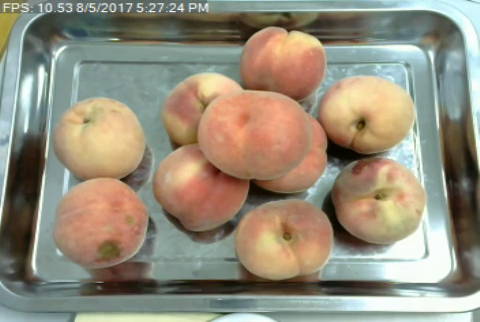Peach: (196, 89, 311, 178), (154, 141, 248, 234), (53, 178, 149, 269), (232, 199, 335, 280), (319, 73, 420, 154), (53, 95, 146, 182), (331, 157, 424, 242), (240, 25, 326, 102), (163, 69, 241, 149)
